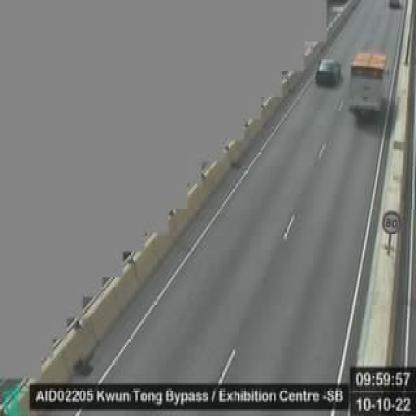Car: (315, 58, 341, 85)
Truck: (349, 49, 386, 122)
